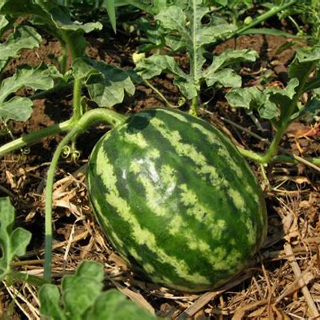dua_hau: (83, 107, 269, 293)
